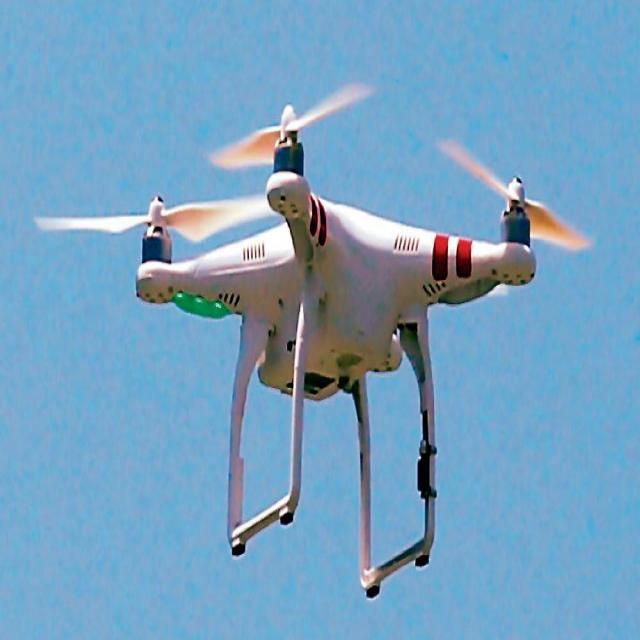drones: (27, 71, 595, 598)
